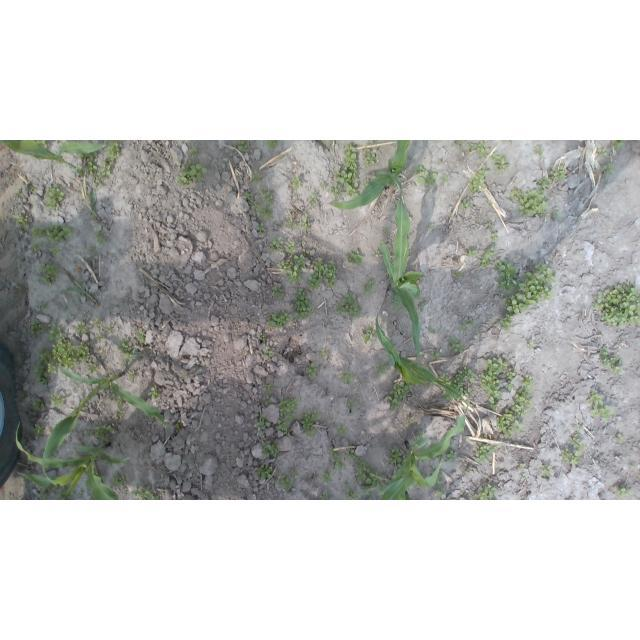Maize: (43, 366, 166, 485), (375, 171, 426, 363), (377, 397, 469, 500), (15, 421, 129, 500), (374, 313, 470, 406), (331, 141, 412, 210), (0, 141, 106, 178)
Weeds: (502, 262, 557, 315), (590, 282, 640, 327), (334, 143, 359, 197), (354, 457, 391, 492), (508, 187, 548, 217), (480, 357, 508, 399), (306, 258, 337, 291), (586, 388, 614, 422), (32, 350, 56, 387), (175, 161, 207, 186), (277, 254, 305, 282), (52, 340, 77, 371), (437, 373, 464, 401), (599, 346, 624, 375), (494, 260, 517, 291), (335, 293, 362, 318), (510, 389, 532, 418), (294, 289, 313, 320), (497, 409, 516, 440), (275, 397, 299, 421), (47, 222, 74, 243), (469, 165, 489, 193), (302, 409, 322, 437), (475, 442, 500, 464), (44, 185, 64, 211), (267, 310, 294, 329), (389, 380, 413, 401), (94, 424, 117, 445), (466, 140, 490, 160), (117, 338, 138, 360), (40, 263, 58, 286), (472, 484, 496, 501), (386, 444, 402, 468), (252, 201, 273, 219), (107, 141, 125, 162), (491, 152, 509, 173), (329, 447, 346, 469), (254, 413, 270, 435), (132, 488, 159, 501), (479, 246, 495, 267), (418, 171, 439, 186), (261, 441, 279, 458), (560, 448, 578, 464), (458, 366, 476, 382), (614, 485, 633, 500), (76, 341, 89, 362), (12, 213, 29, 229), (48, 324, 64, 341), (276, 476, 292, 493), (57, 484, 74, 500), (260, 187, 275, 205), (50, 392, 66, 408), (549, 164, 565, 180), (28, 320, 45, 335), (256, 465, 273, 480), (449, 337, 464, 354), (339, 371, 356, 386), (100, 158, 114, 176), (360, 325, 372, 346), (363, 147, 376, 166), (347, 251, 363, 266), (92, 228, 106, 244), (111, 471, 127, 485), (500, 314, 514, 330), (459, 320, 476, 333), (76, 321, 91, 335), (269, 237, 283, 252), (77, 151, 98, 161), (327, 184, 341, 199), (92, 173, 105, 189), (147, 385, 161, 399), (83, 161, 97, 175), (31, 226, 46, 239), (432, 487, 447, 500), (387, 397, 402, 410), (306, 363, 319, 377), (374, 362, 387, 376), (273, 284, 284, 300), (32, 424, 45, 437), (290, 175, 302, 189), (346, 488, 360, 500), (413, 429, 427, 441), (446, 448, 458, 462), (137, 330, 148, 345), (48, 244, 60, 257), (276, 419, 289, 431), (573, 444, 585, 457), (522, 375, 534, 388), (39, 486, 50, 500), (365, 279, 376, 293), (87, 362, 99, 374), (32, 398, 44, 410), (284, 217, 296, 229), (299, 218, 310, 231), (525, 340, 538, 351), (603, 164, 614, 177), (309, 190, 318, 205), (263, 382, 274, 394), (286, 242, 297, 254), (237, 141, 249, 152), (541, 465, 552, 477), (460, 199, 470, 212), (322, 470, 332, 483), (537, 178, 551, 187), (611, 140, 625, 149), (30, 241, 42, 251), (266, 140, 278, 150), (460, 464, 472, 474), (515, 419, 523, 434), (490, 398, 499, 411), (337, 425, 348, 435), (505, 381, 515, 392), (506, 369, 516, 380), (257, 222, 266, 234), (34, 141, 49, 148), (362, 486, 372, 496), (251, 171, 260, 182), (243, 192, 255, 200), (454, 140, 466, 148), (435, 474, 443, 486), (596, 148, 608, 156), (615, 433, 625, 442), (92, 318, 102, 327), (264, 347, 273, 357), (346, 450, 356, 459), (438, 454, 447, 464), (571, 434, 581, 443), (431, 352, 441, 361), (418, 301, 427, 311), (441, 175, 449, 186), (465, 250, 479, 256), (40, 302, 49, 311), (263, 396, 272, 405), (320, 492, 329, 501), (189, 146, 199, 154), (534, 146, 542, 156), (117, 397, 124, 408), (415, 167, 426, 174), (128, 371, 136, 380), (291, 469, 300, 477), (464, 388, 473, 396), (347, 401, 355, 410), (259, 332, 266, 342), (455, 271, 465, 278), (175, 421, 181, 432), (321, 349, 329, 357), (95, 332, 102, 341), (491, 232, 498, 241), (372, 250, 380, 257), (104, 325, 113, 331), (429, 466, 435, 475), (107, 371, 114, 378), (83, 431, 90, 438), (327, 413, 334, 420), (284, 430, 292, 436), (521, 473, 527, 481), (486, 223, 495, 228), (110, 393, 117, 399), (118, 411, 125, 417), (88, 246, 95, 252), (428, 223, 434, 230), (344, 482, 351, 488), (517, 463, 524, 469), (578, 423, 585, 429), (194, 361, 201, 367), (406, 417, 412, 424), (501, 140, 511, 144), (61, 308, 68, 313), (89, 343, 96, 348), (303, 250, 310, 255), (29, 186, 36, 191), (321, 183, 326, 190), (553, 211, 560, 216), (488, 199, 493, 206), (373, 331, 378, 338), (381, 228, 388, 233), (481, 434, 488, 439), (429, 328, 436, 333), (631, 465, 638, 470), (19, 260, 25, 265), (16, 189, 21, 195), (94, 469, 99, 475), (366, 180, 371, 186), (16, 286, 23, 290), (59, 140, 66, 144), (380, 195, 386, 199), (394, 202, 399, 206), (463, 494, 468, 498), (100, 476, 104, 480), (525, 497, 530, 500), (368, 498, 373, 500), (321, 140, 325, 142)
